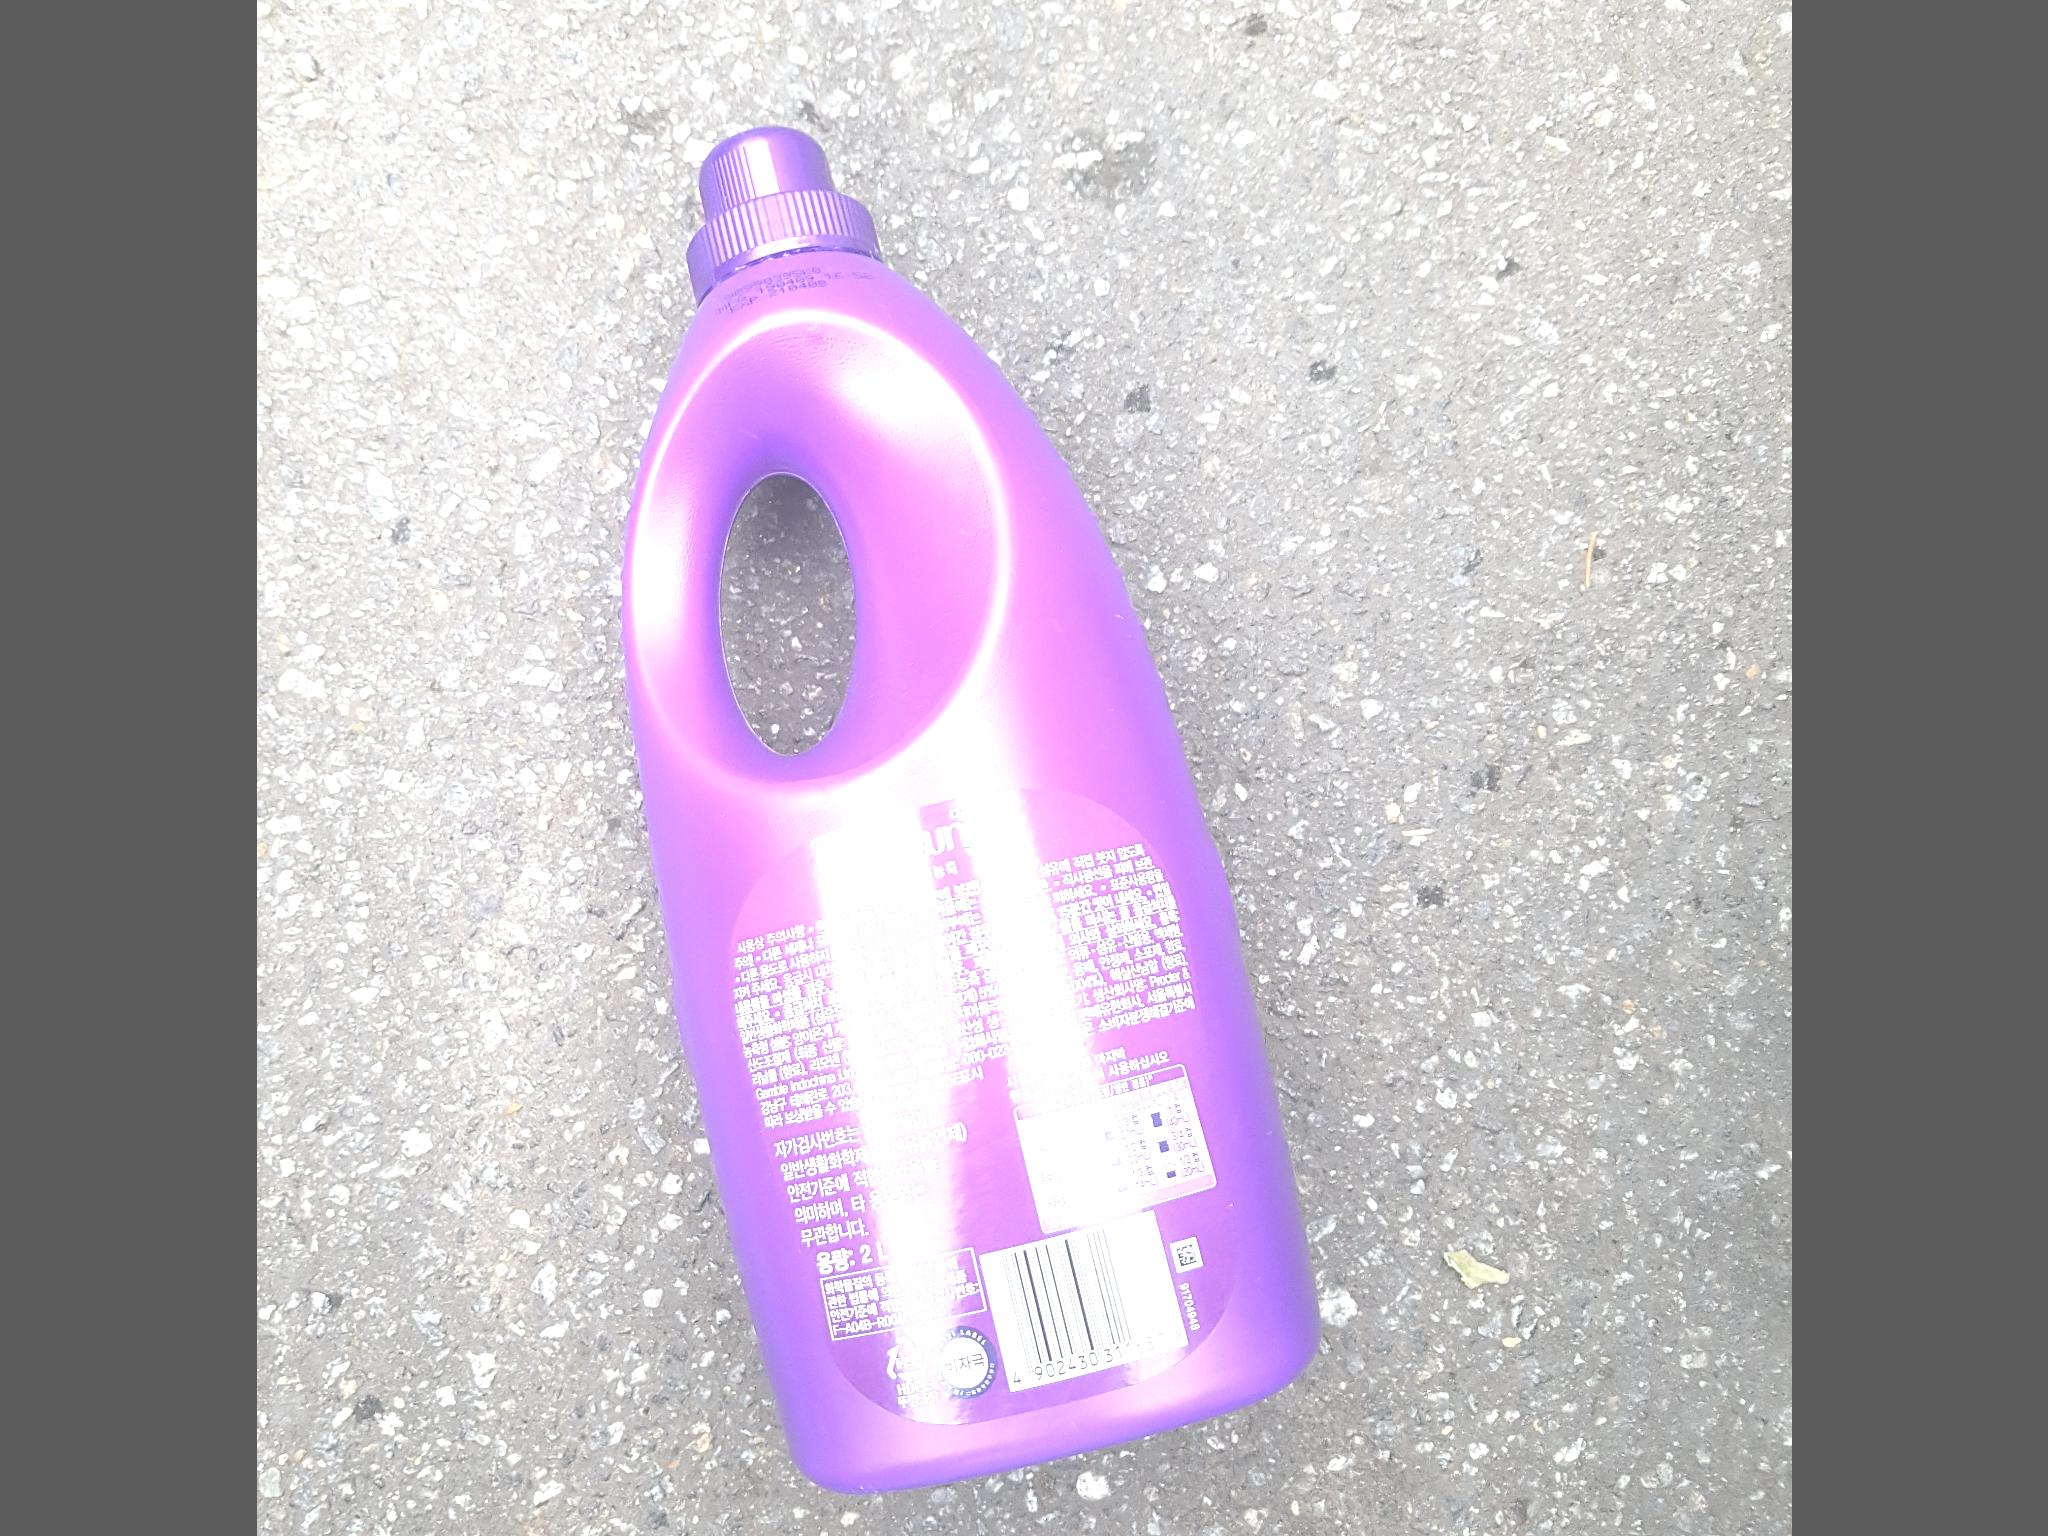bottle: (606, 110, 1306, 1512)
